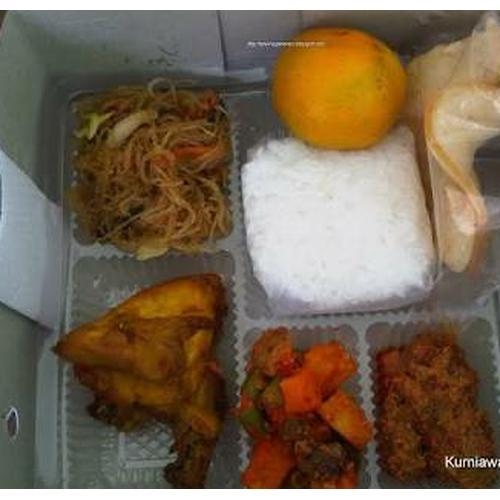buah_sayur_lainnya: (395, 346, 473, 447)
buah_sayur_vitA: (284, 40, 395, 127)
daging: (93, 324, 211, 411)
makanan_berpati: (269, 167, 400, 271), (100, 109, 211, 219), (253, 357, 356, 475)
